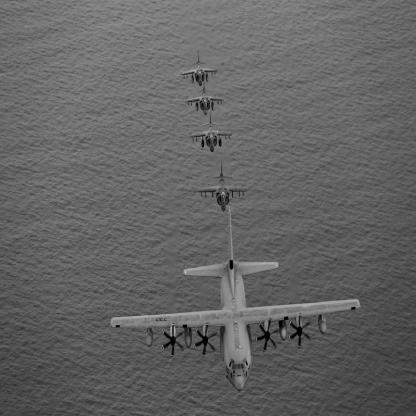AV8B: (199, 160, 248, 213), (190, 109, 234, 154), (186, 81, 225, 116), (182, 51, 219, 87)
C130: (111, 207, 362, 393)
